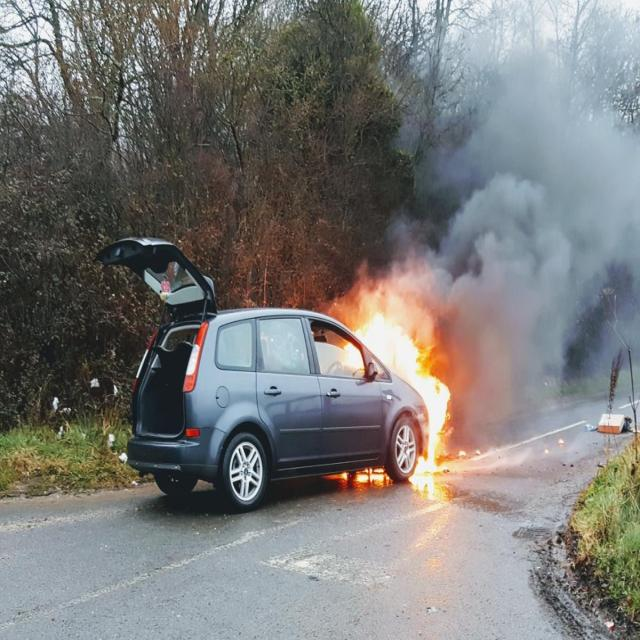fire: (353, 310, 420, 366), (409, 411, 451, 499), (395, 366, 450, 411)
